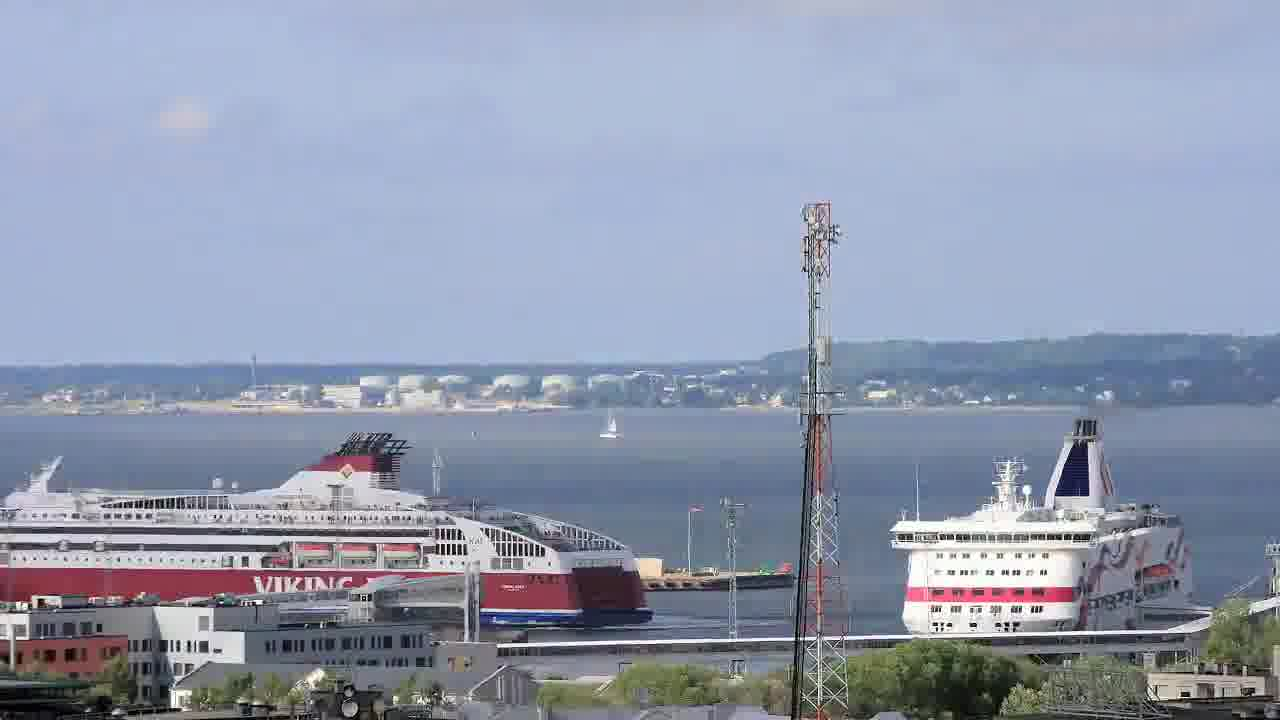type-2: (581, 399, 633, 454)
type-3: (0, 434, 654, 625), (868, 415, 1225, 638)
